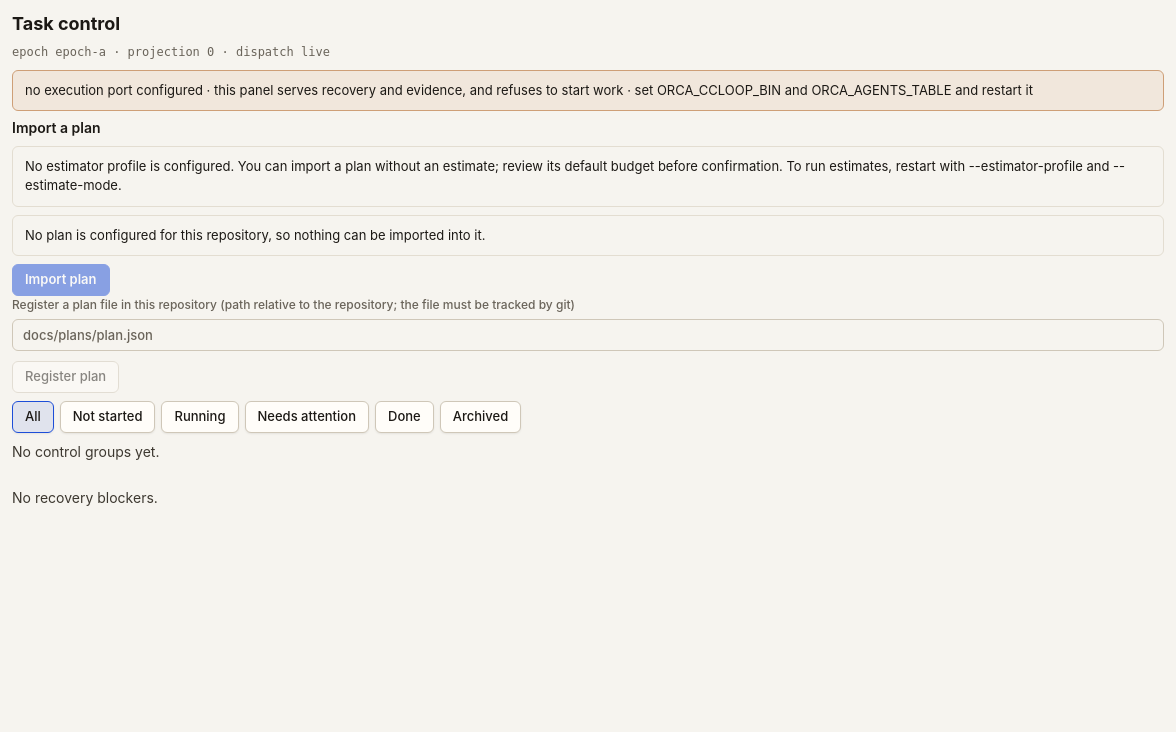
it: registering a plan file from the import form (spec 2026-10-21) › sends the chosen repository and the trimmed path, and says it was registered
The width and height of the screenshot is (1176, 732).
Type "  plans/ship.json " into the field. click: point(588, 335)
box: [12,319,1164,351]
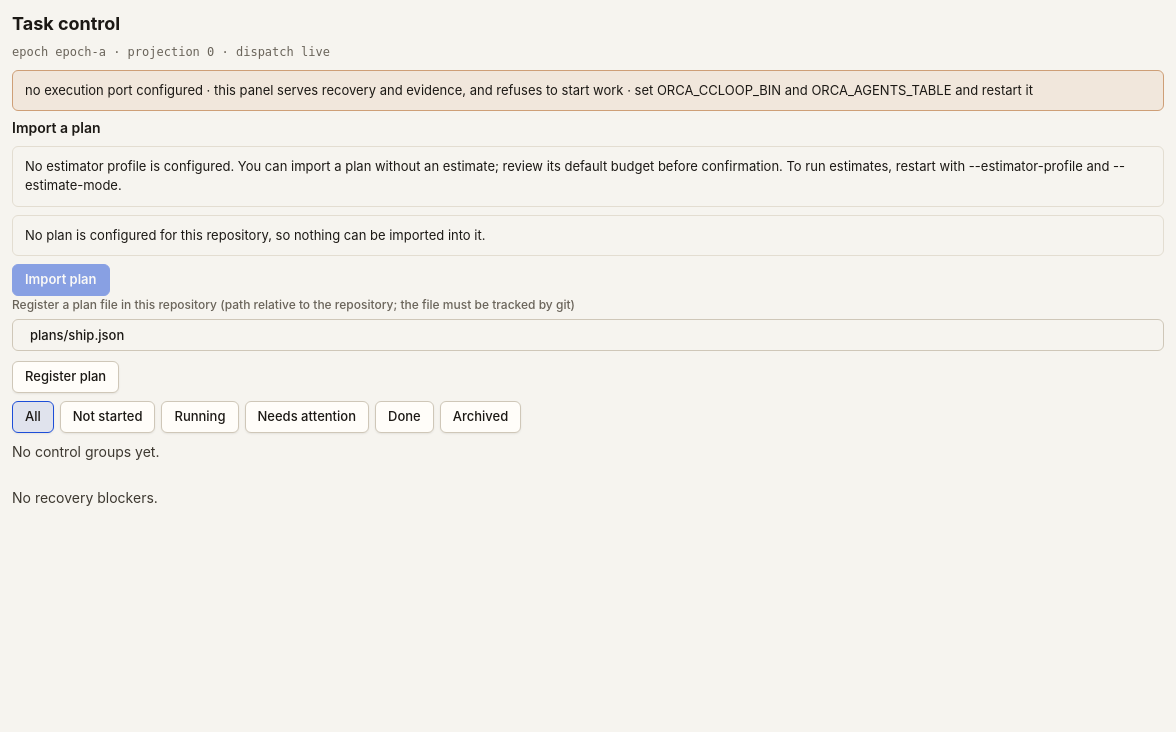
Click the button "Register plan". click: point(66, 377)
box: [12,361,119,393]
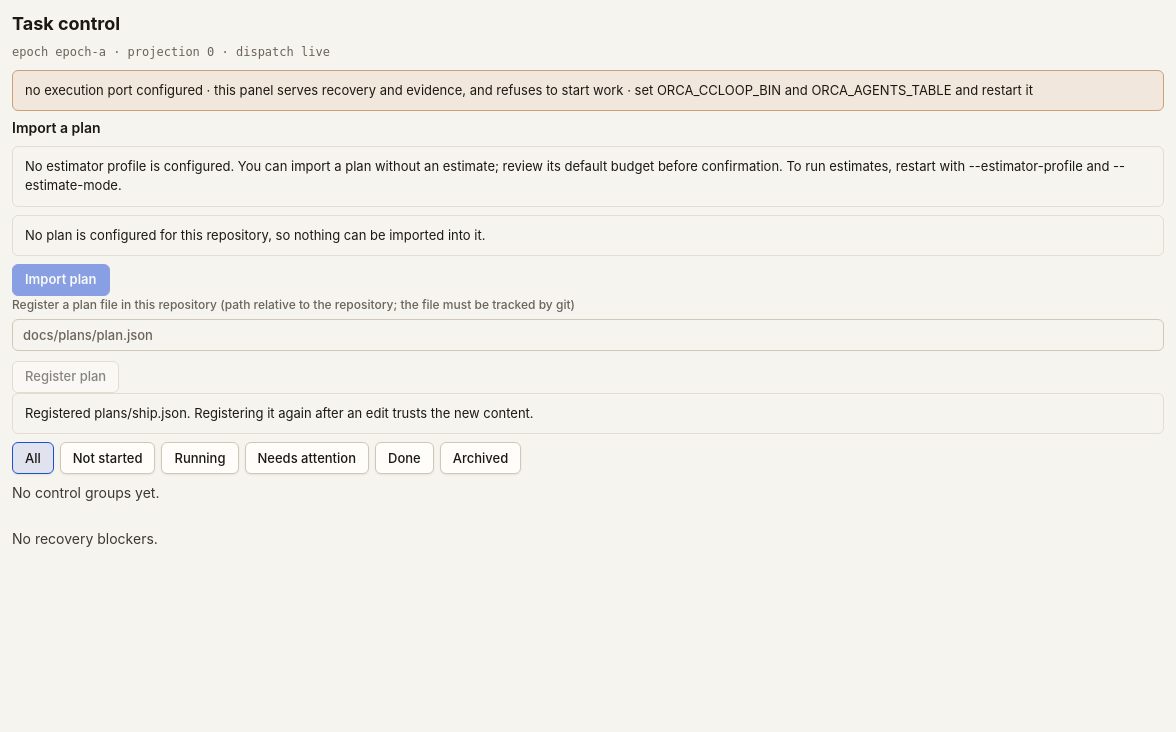
Expected: the message shows "Registered plans/ship.json", [25,405,534,421]
